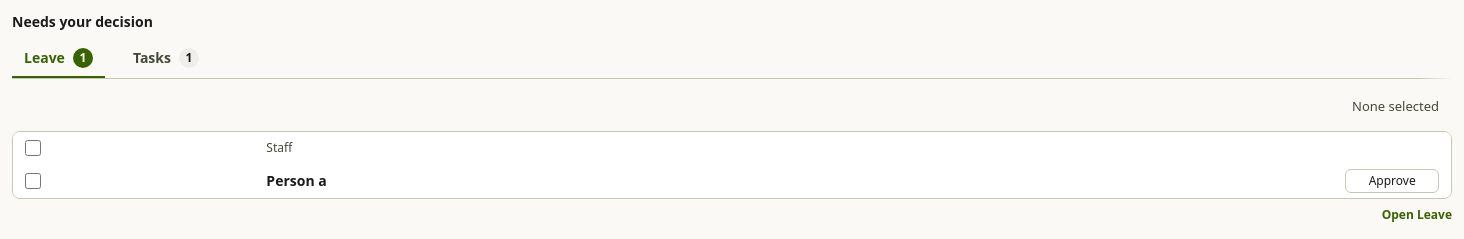
Scenario: NeedsYourDecision — when the open tab empties (SHAPE §3, §5) › keeps a tab whose last row left while it holds a notice: "(0)", enabled, open
The width and height of the screenshot is (1464, 239).
Click the button with aria-label "Approve: Person a": (1392,181) top-left (1345, 169), bottom-right (1439, 193)
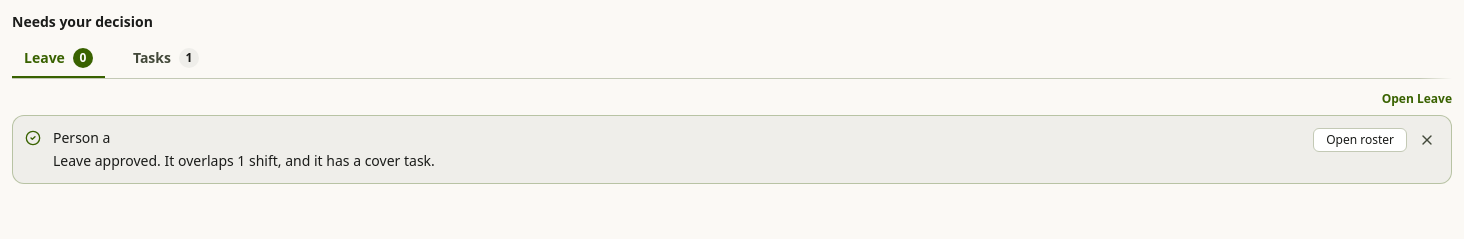
Expected: the tab "Leave 0" is enabled, top-left (12, 40), bottom-right (105, 78)
Result: the text "Leave approved. It overlaps 1 shift, and it has a cover task." is shown at top-left (53, 151), bottom-right (435, 170)
